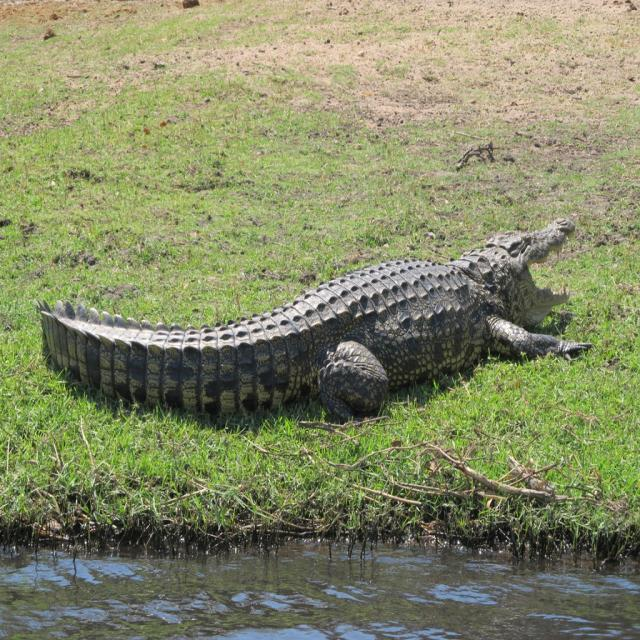crocodile: (17, 188, 608, 446)
